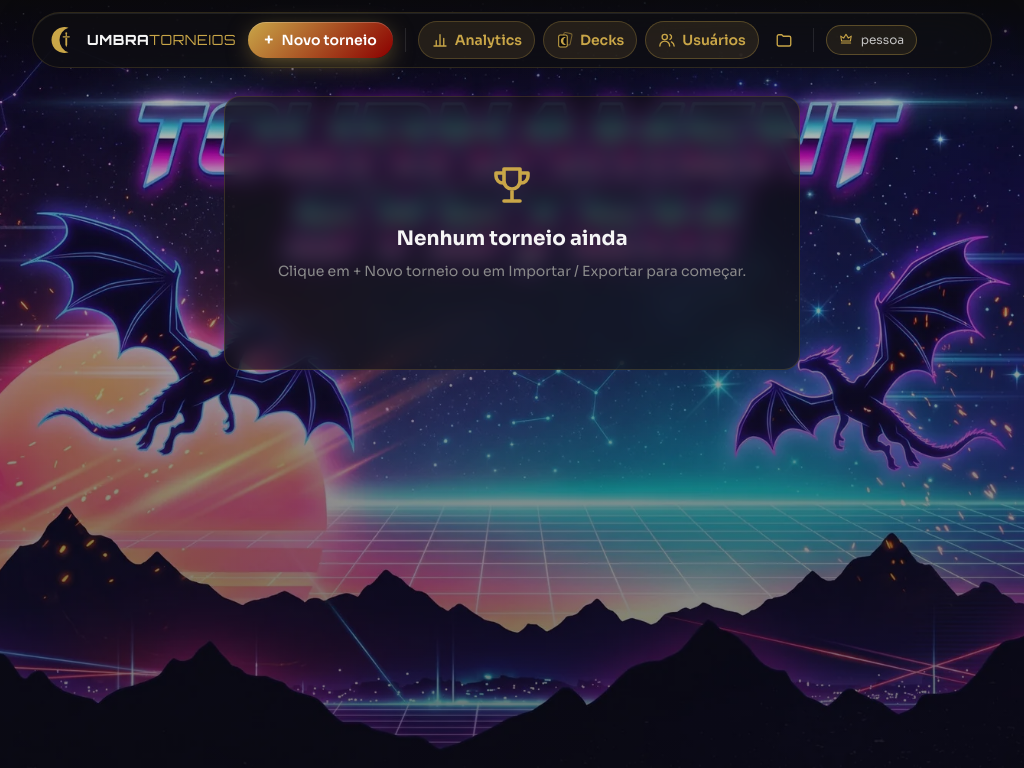
Test case: barra da lista de torneios › a barra não tem mais o menu Torneio, e Importar / Exportar continua para quem edita
The width and height of the screenshot is (1024, 768).
Step 1. Click the button named "Importar / Exportar" → coordinates (784, 40), box [767,23,801,57]
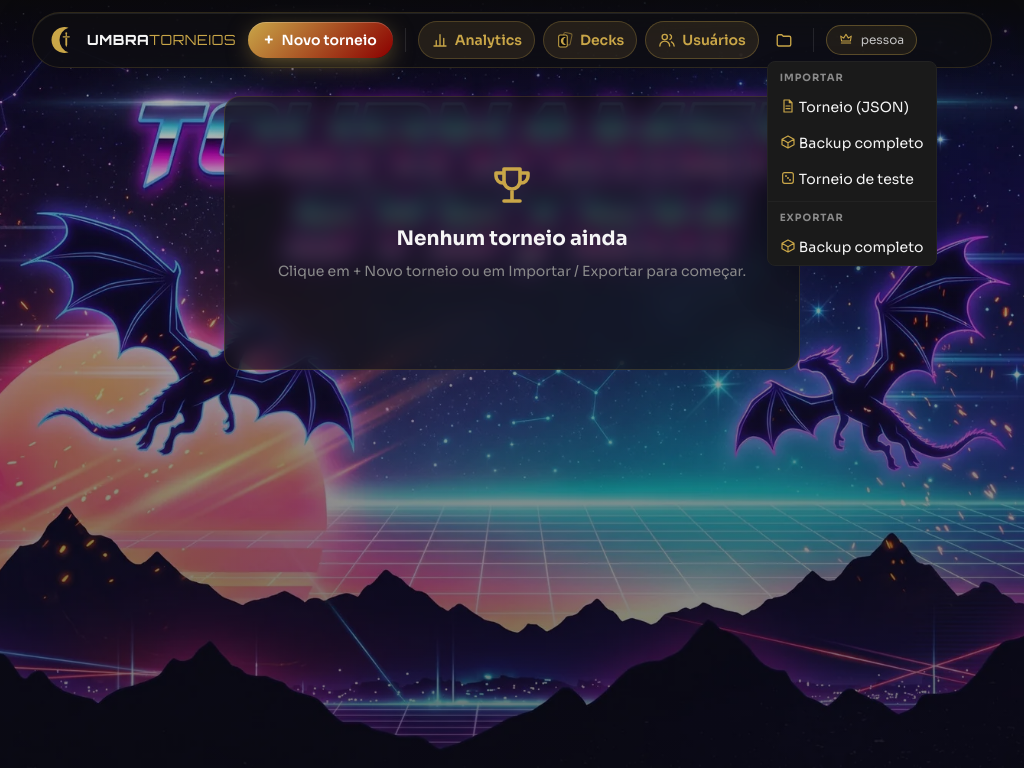
Result: the menu shows "Importar" at [780,71,844,84]
Result: the menu shows "Backup completo" at [768,125,936,161]
Result: the menu shows "Torneio de teste" at [768,161,936,197]
